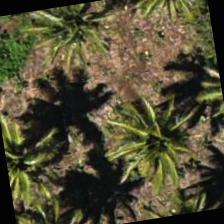Kelapa_Sawit: (99, 94, 202, 197)
